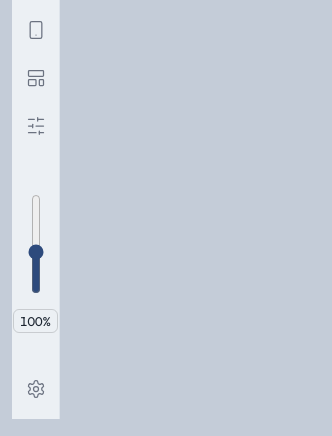
Test: IconRail › opens the settings menu with theme, screenshot settings, shortcuts, and tour items
Click the button named "Settings".
click(36, 390)  # box 14,368 -> 58,412
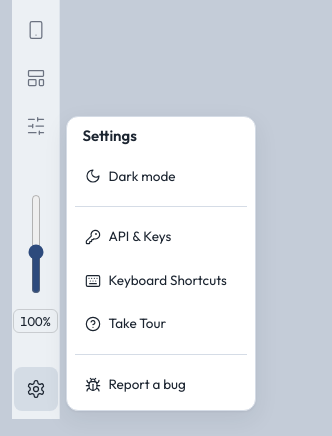
Expected: the menu item "Dark mode" is shown, 74,159 -> 246,194
Expected: the menu item "API & Keys" is shown, 74,219 -> 246,255
Expected: the menu item "Keyboard Shortcuts" is shown, 74,263 -> 246,298
